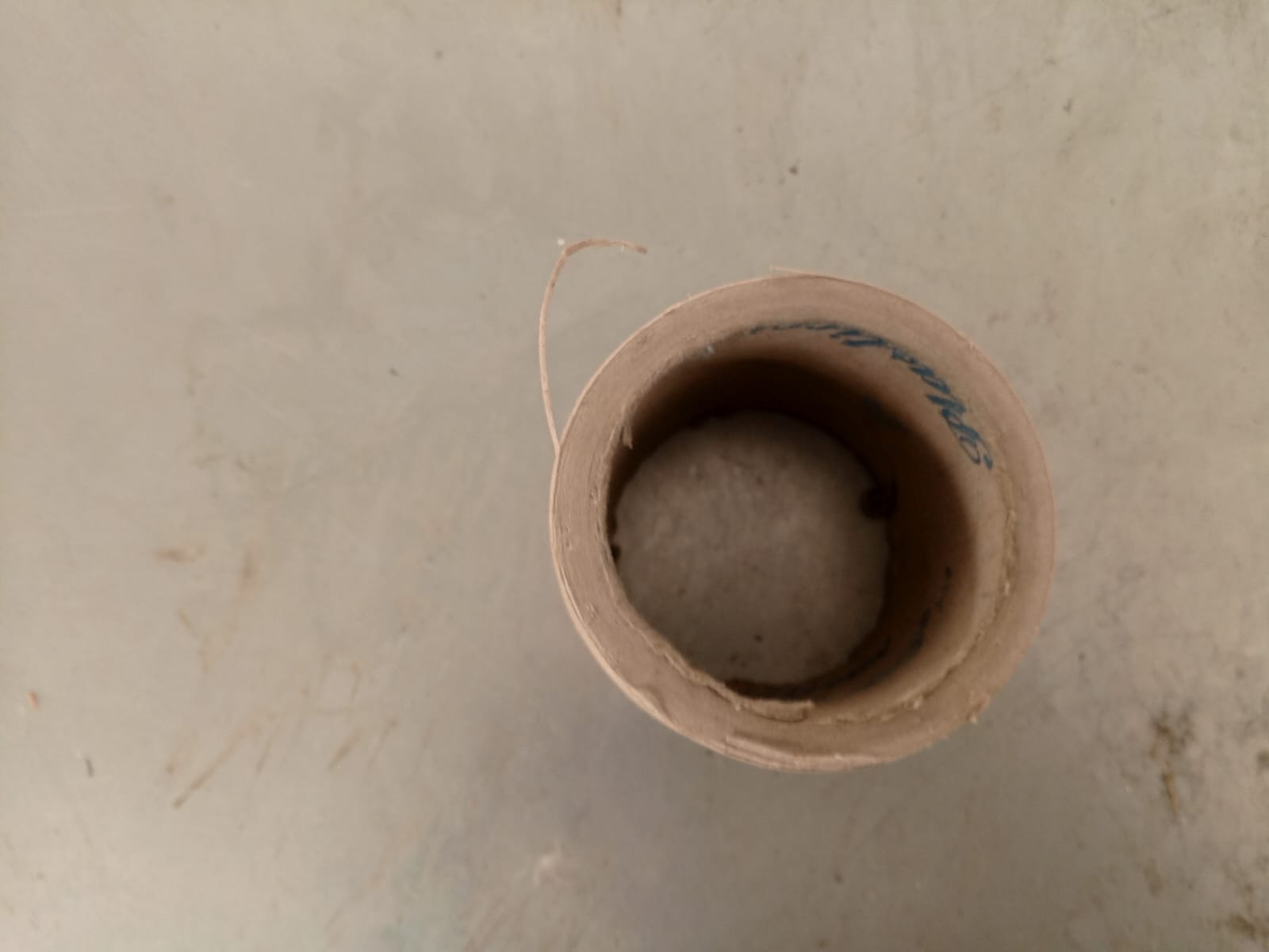Carton: (548, 272, 1057, 775)
